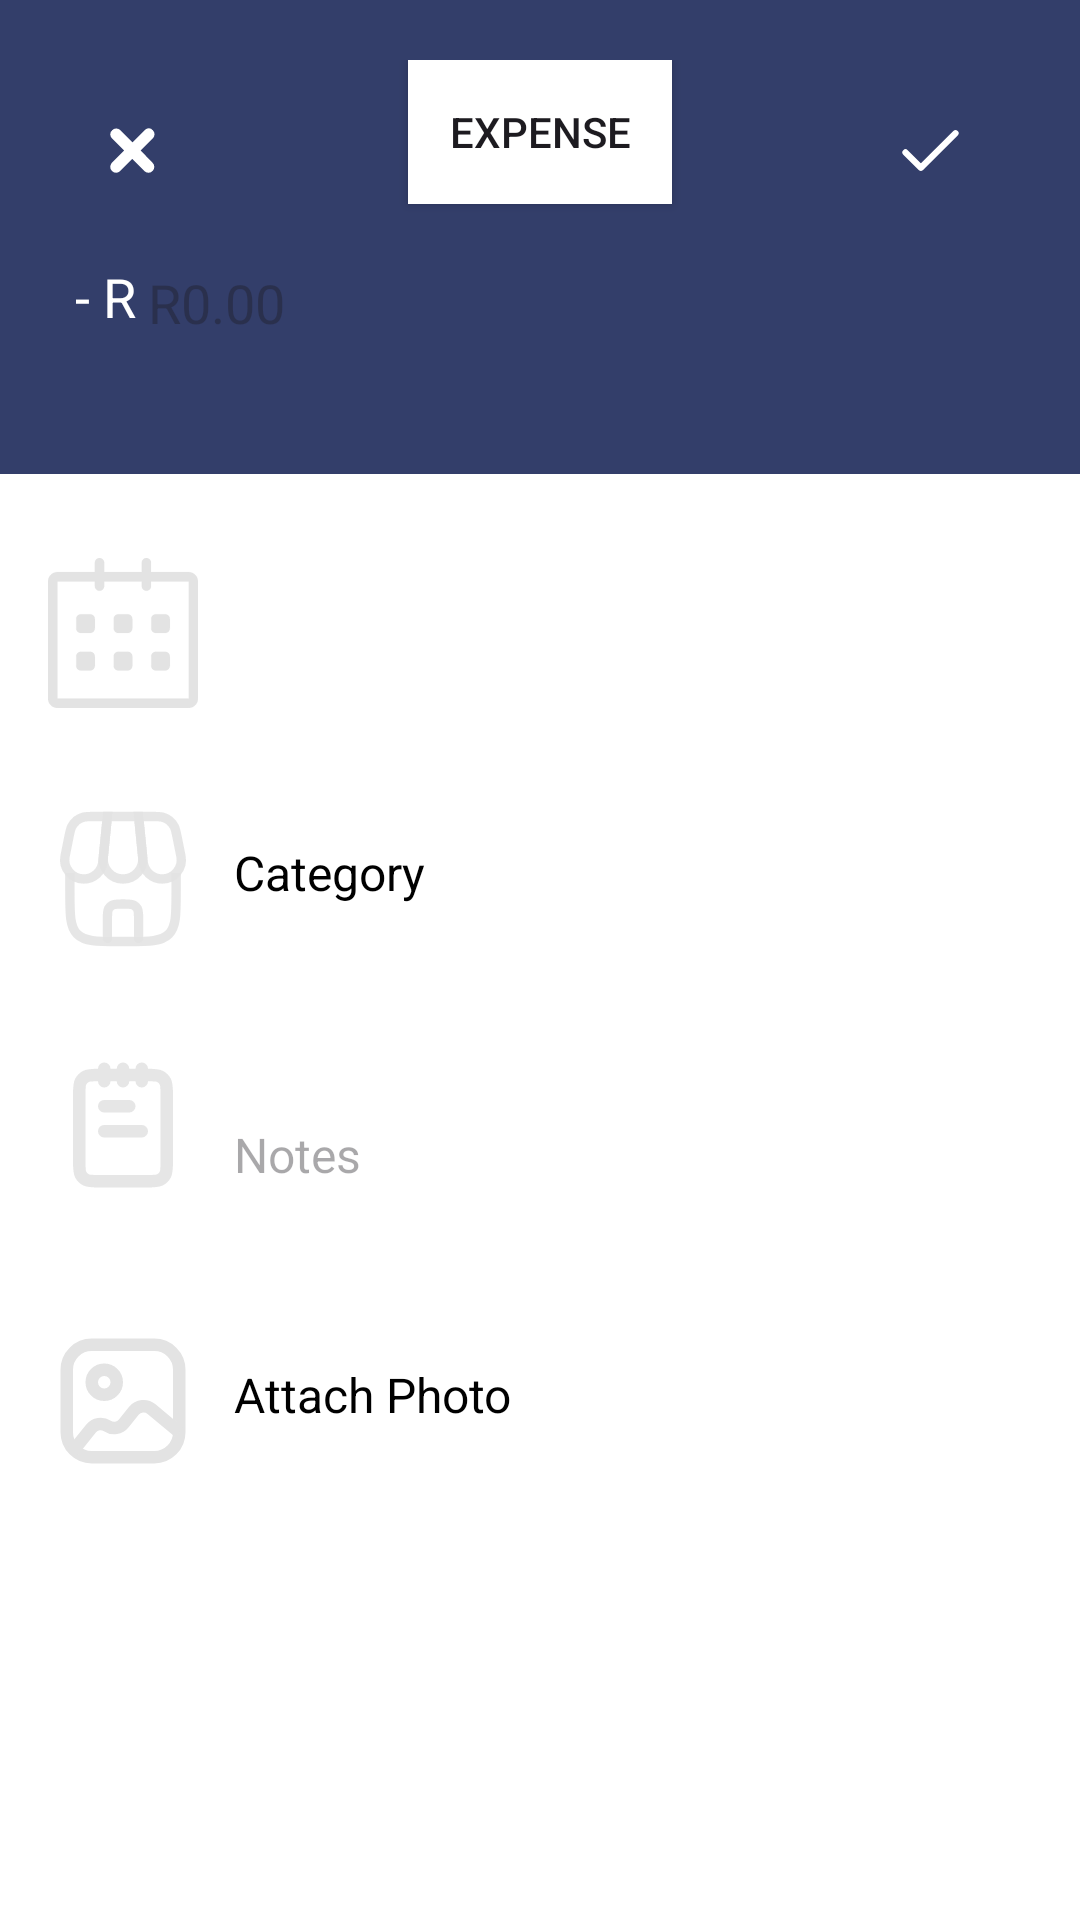

Where icons sit on this 1080 x 1920 app screen, as (x1, y1, x2, y2):
calender: (48, 558, 198, 708)
Return to previous page: (110, 128, 155, 173)
